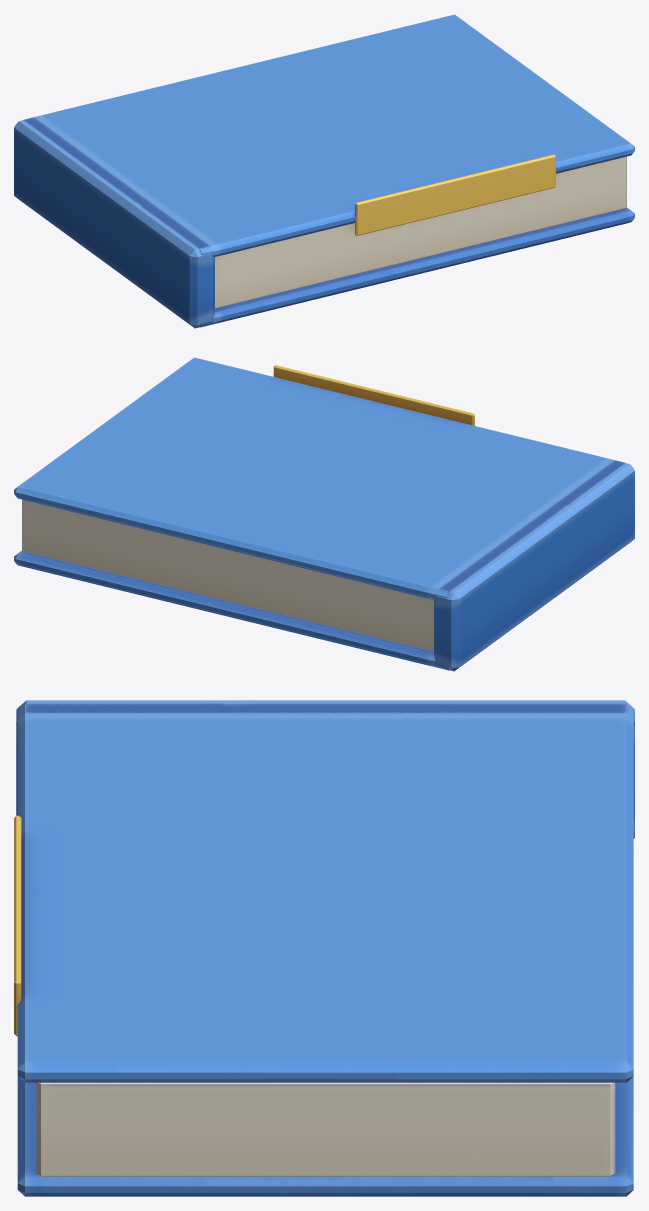
File: toy_book_blue.glb
The picture shows the model from 3 angles, top to bottom: view 1: azimuth 30°, elevation 25°; view 2: azimuth 150°, elevation 25°; view 3: azimuth 270°, elevation 25°; orthographic projection. The views are drawn at different scales.
Visible parts, largest first — view 1: prop; view 2: prop; view 3: prop.
Boxes of the visible parts, left/top/right/bottom form: prop: left=14, top=14, right=634, bottom=328; prop: left=14, top=357, right=634, bottom=671; prop: left=14, top=700, right=634, bottom=1196.
Size of the model in its own units: 7.1 by 1.35 by 5.04.
Materials: 1 (1 with a texture image).
